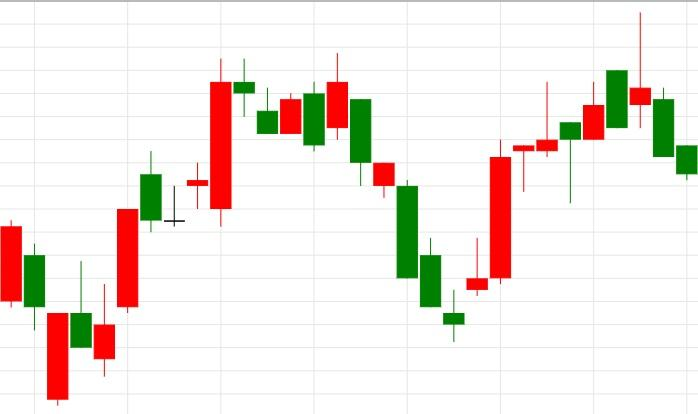morning_star_rise: (350, 99, 488, 342)
